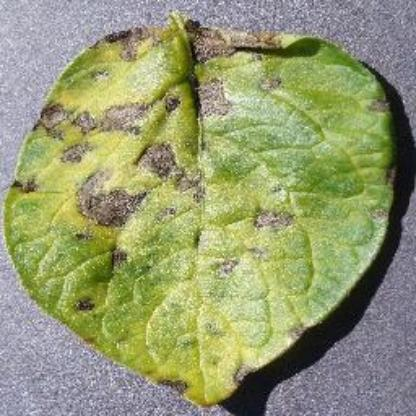Early-Blight: (6, 7, 406, 406)
